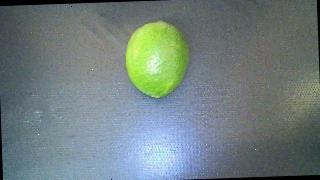EXPORTACION: (125, 20, 191, 99)
